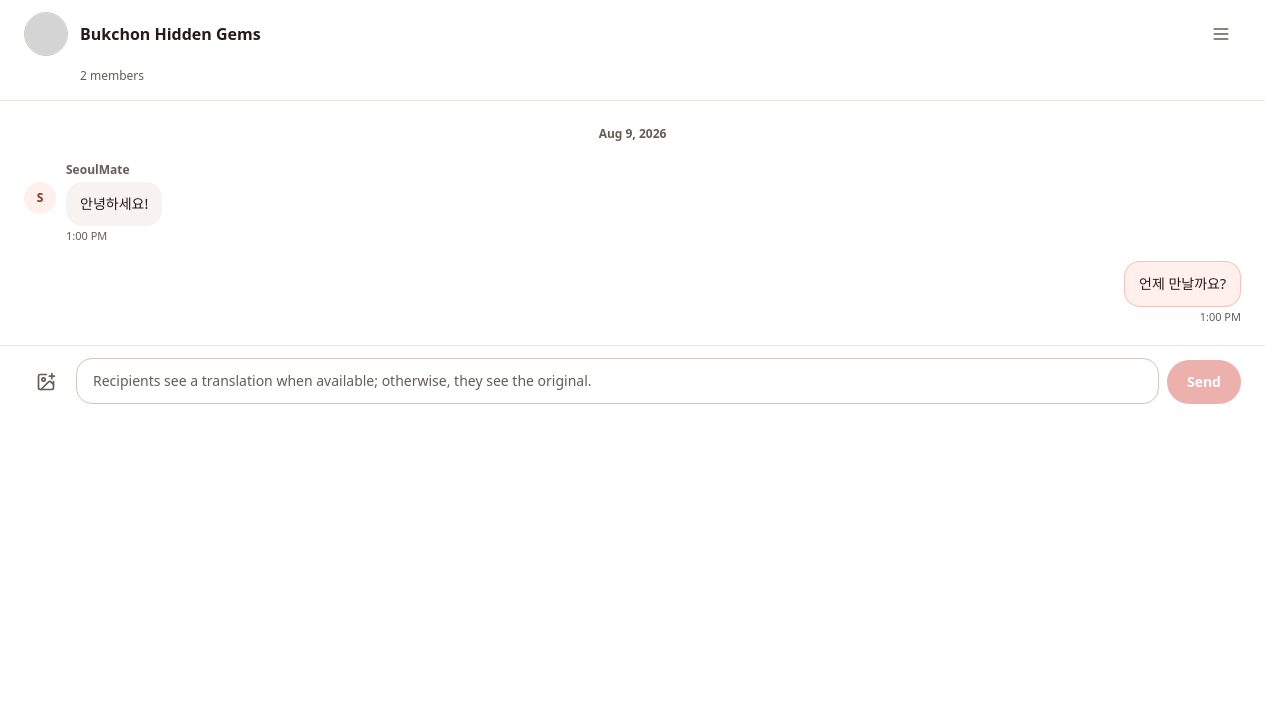
Scenario: ChatRoomView › shows a member's nationality on their profile
Click the button "2 members".
click(112, 76)  # box [80, 64, 144, 88]
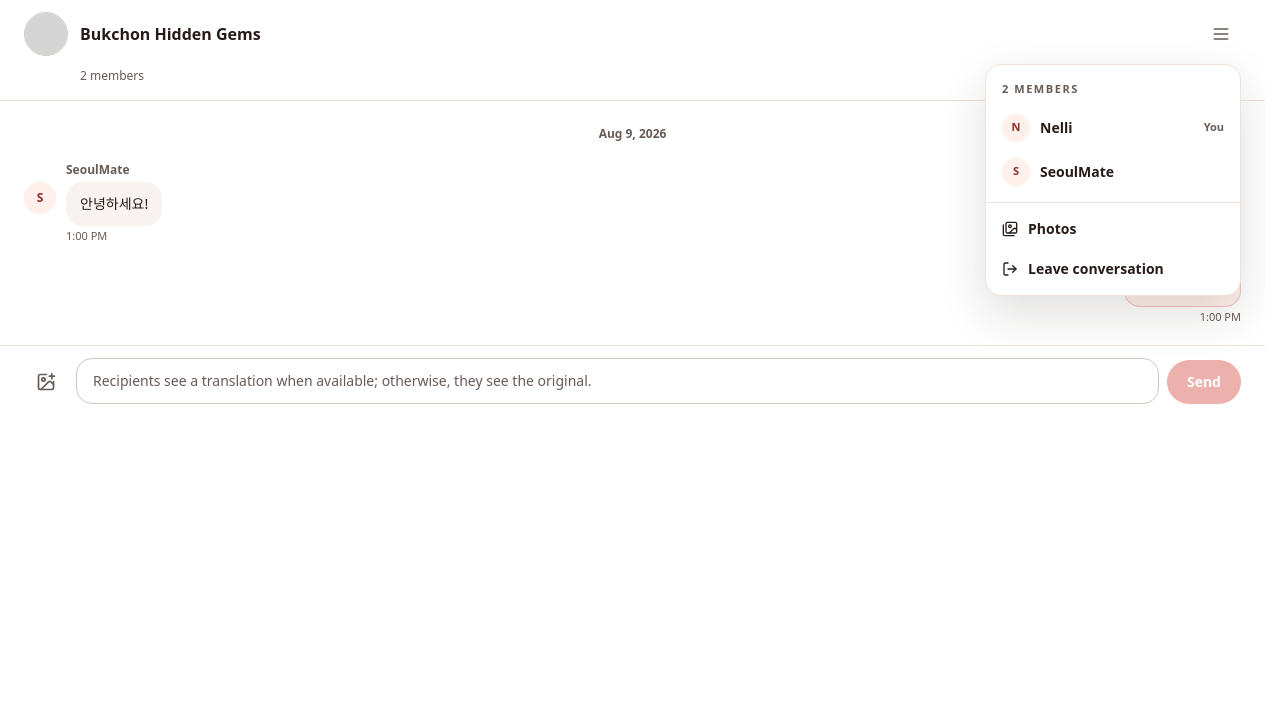
Click the button "S SeoulMate".
click(1113, 172)  # box [986, 150, 1240, 194]
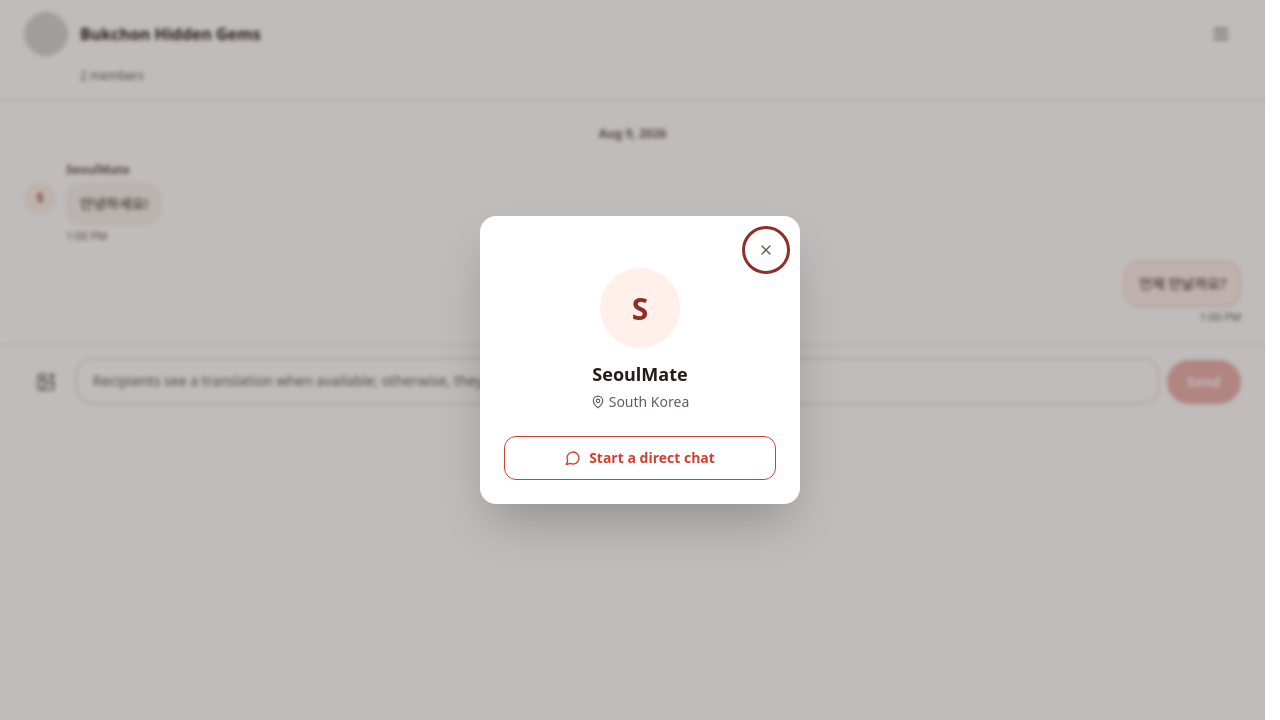
Check: the text "South Korea" is shown, box [591, 392, 689, 412]
